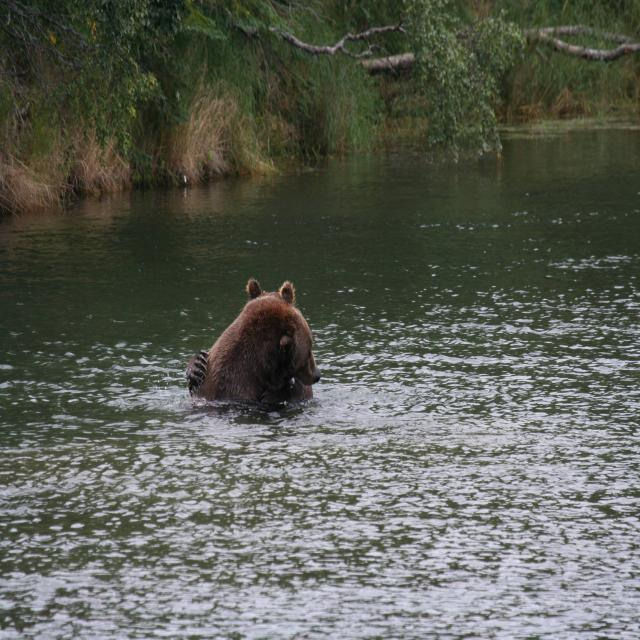bear face: (191, 297, 317, 404), (243, 274, 296, 304)
